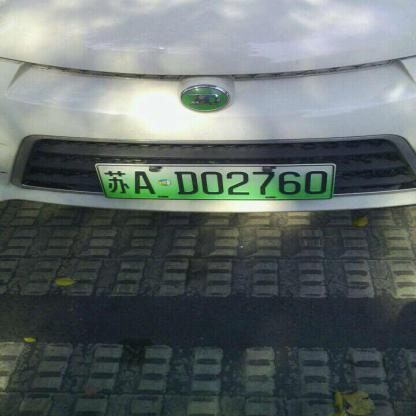lp: (96, 165, 332, 197)
